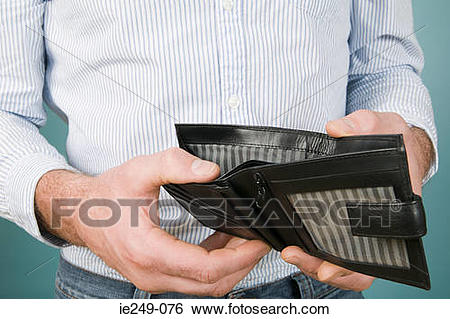monedero: (157, 120, 433, 293)
